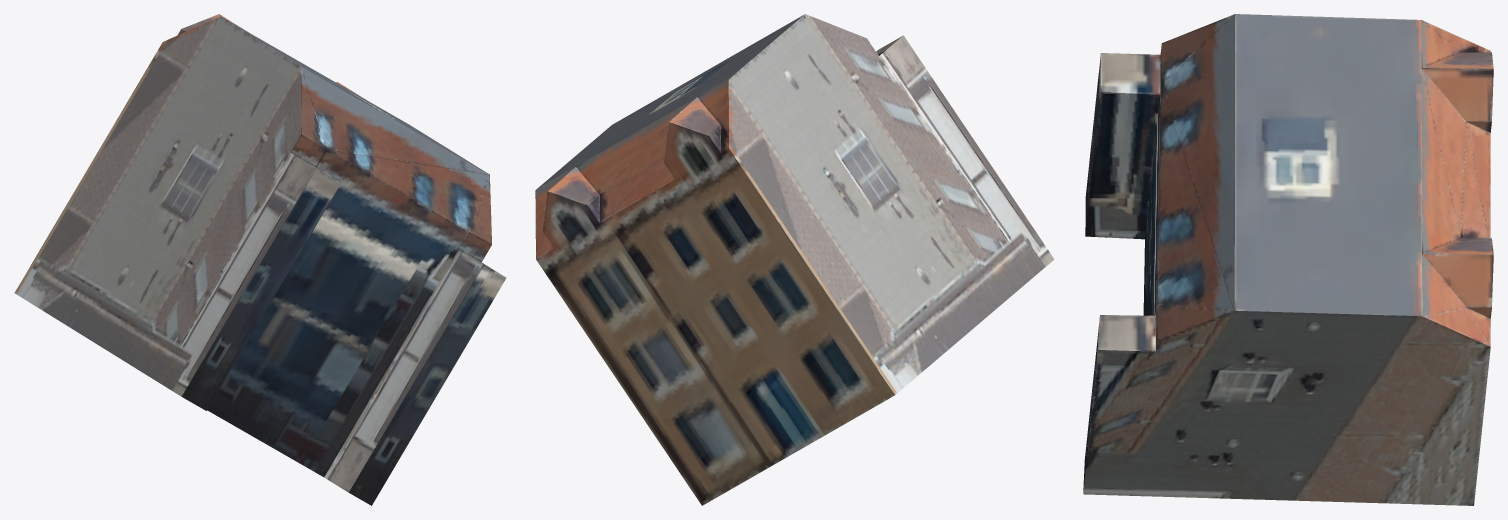
3 views of the same model, side by side, from view 1: azimuth 30°, elevation 25°; view 2: azimuth 150°, elevation 25°; view 3: azimuth 270°, elevation 25° (orthographic). The views are drawn at different scales.
Parts seen in each view (by area): view 1: BAG_0599100000670810 (×6); view 2: BAG_0599100000670810 (×5); view 3: BAG_0599100000670810 (×5).
Boxes of the visible parts, x1,y1,x2,y2 form: BAG_0599100000670810 (×6): [14, 14, 506, 505]; BAG_0599100000670810 (×5): [535, 14, 1054, 505]; BAG_0599100000670810 (×5): [1083, 14, 1493, 505].
Size of the model in its own units: 16.55 by 17.17 by 13.01.
5 materials, 5 textured.
